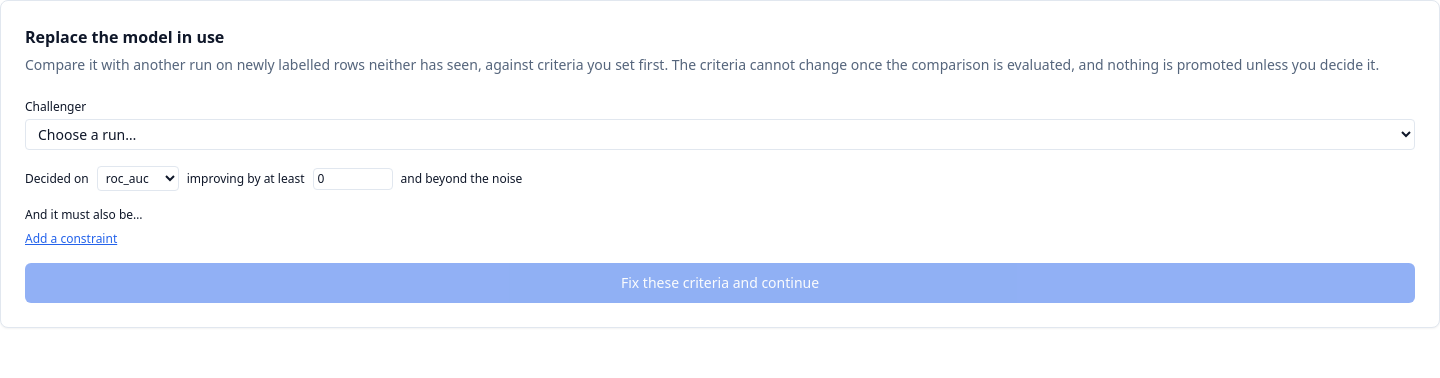
ReplaceModel (#80) › fixes the criteria before asking for the evaluation file
Select "Random forest · 2026-10-16T10:00:00+00:00" in the dropdown labelled "Challenger" at (720,134), box [25,119,1415,150]
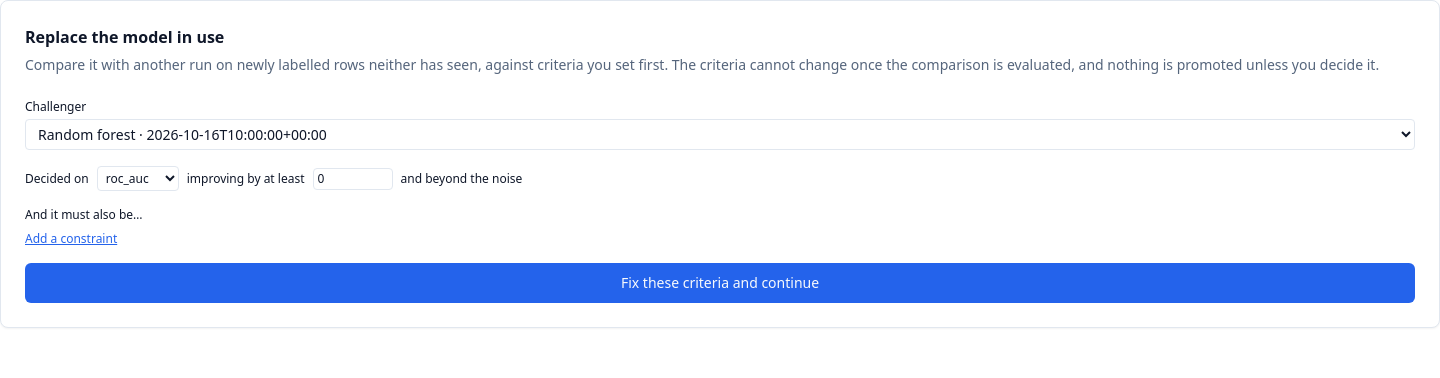
Replace the text in the number field named "Minimum improvement" with "0.01" at (352,178), box [312,168,392,190]
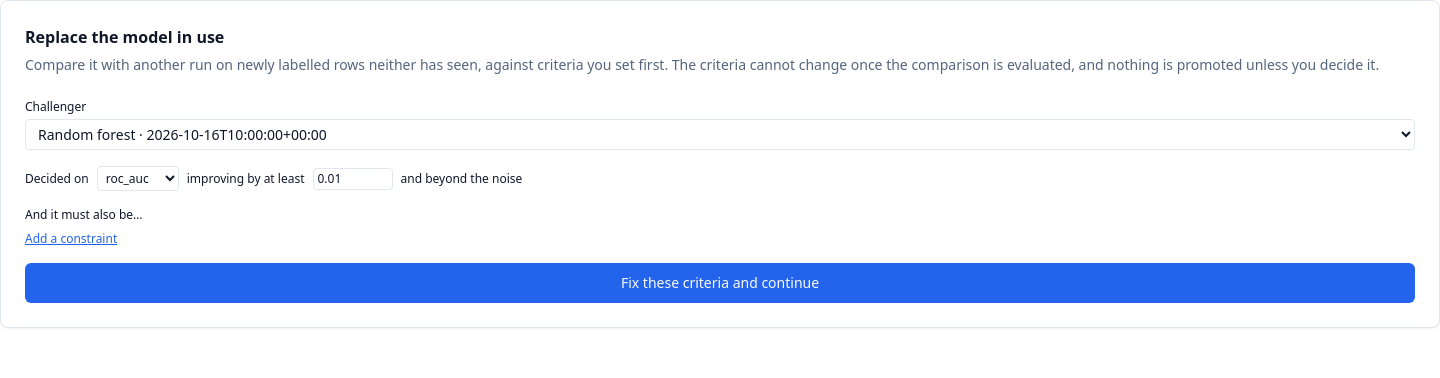
Click the button "Add a constraint" at (71,239), box [25,231,117,247]
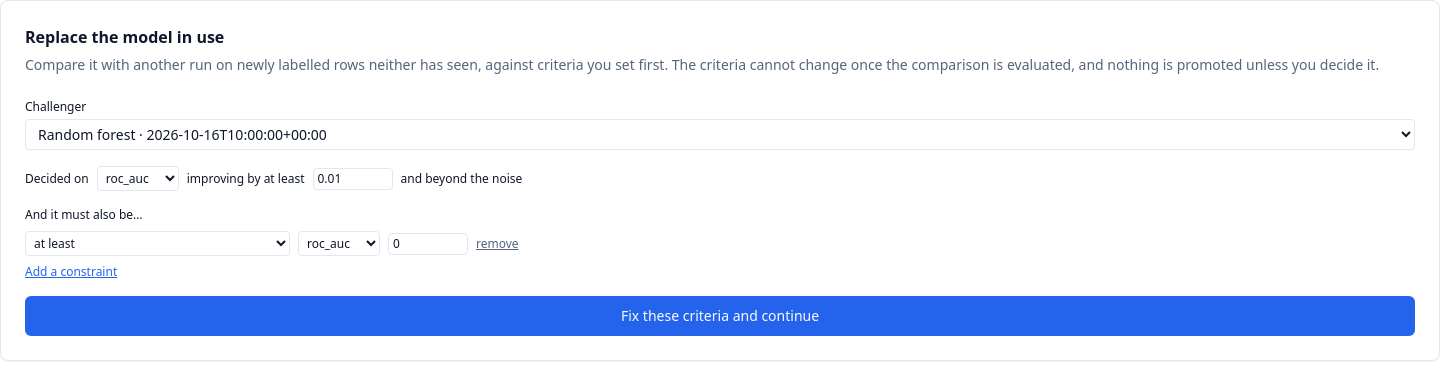
Replace the text in the number field named "Value" with "0.7" at (428,244), box [388,232,468,254]
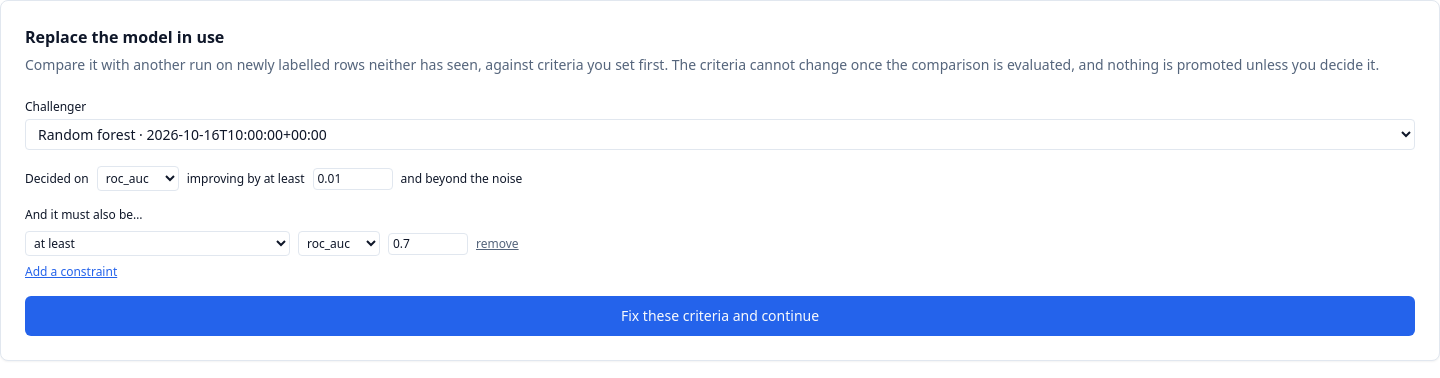
Click the button "Fix these criteria and continue" at (720,316), box [25,296,1415,336]
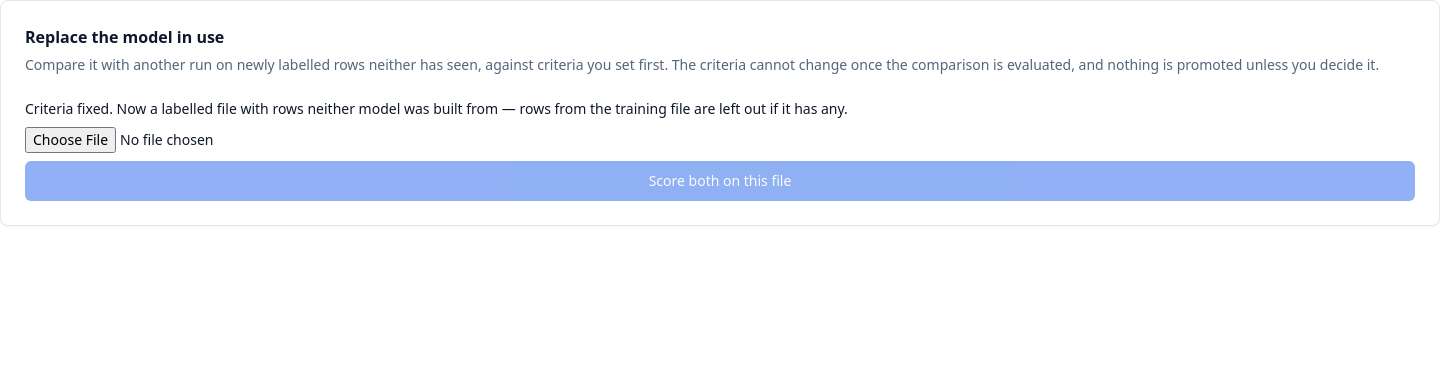
Check: the file field named "Labelled evaluation file" is shown, box [25,127,1415,153]
